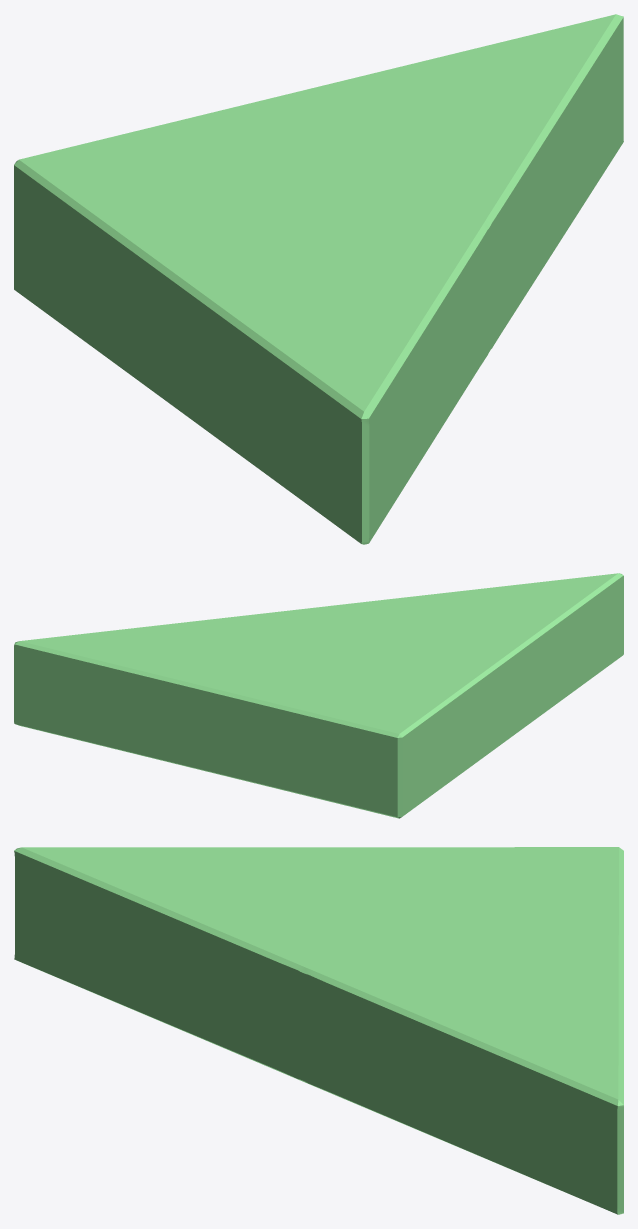
The model's file is Triangulo_02.fbx.
3 renders of one model, top to bottom at view 1: azimuth 30°, elevation 25°; view 2: azimuth 150°, elevation 25°; view 3: azimuth 270°, elevation 25°, orthographic. The views are drawn at different scales.
Visible parts, largest first — view 1: polySurface58; view 2: polySurface58; view 3: polySurface58.
Boxes of the visible parts, bbox=[...] form: polySurface58: bbox=[14, 14, 623, 544]; polySurface58: bbox=[14, 573, 623, 818]; polySurface58: bbox=[14, 847, 623, 1214].
Bounding box in the file's own units: 6.59 × 1.37 × 6.59.
